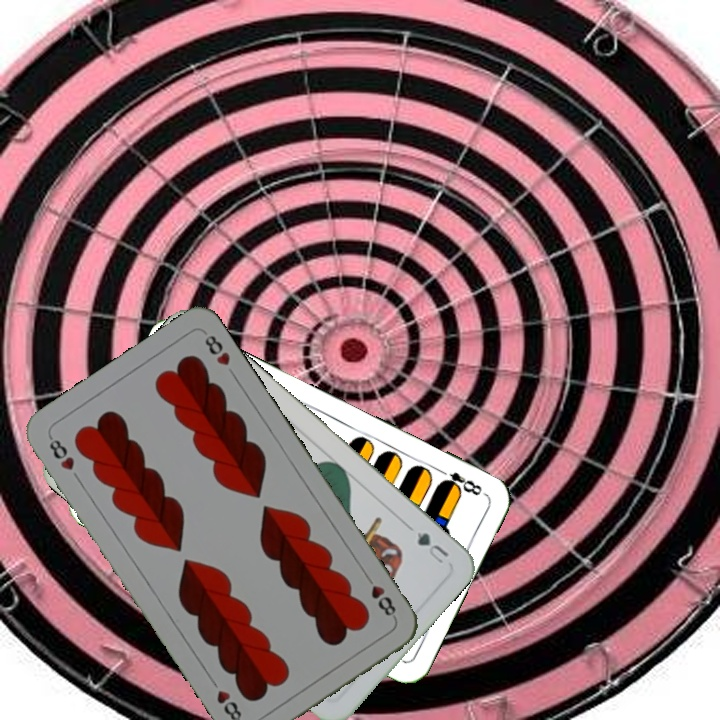E8: (433, 464, 485, 498)
GU: (411, 527, 452, 566)
H8: (360, 570, 399, 622), (44, 432, 77, 473)
